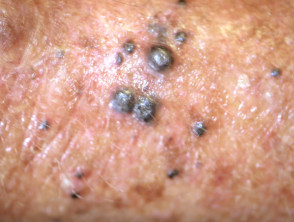melanoma: (57, 13, 245, 184)
